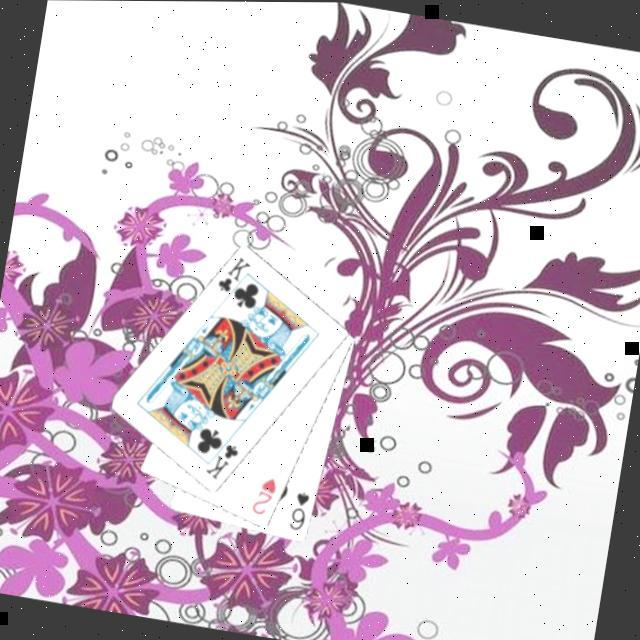2H: (246, 470, 280, 518)
6S: (283, 484, 312, 532)
KC: (210, 248, 254, 305), (200, 428, 242, 484)
